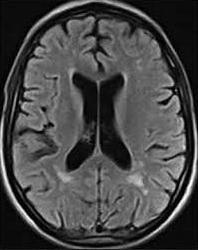Normal_Brain: (1, 1, 198, 249)
